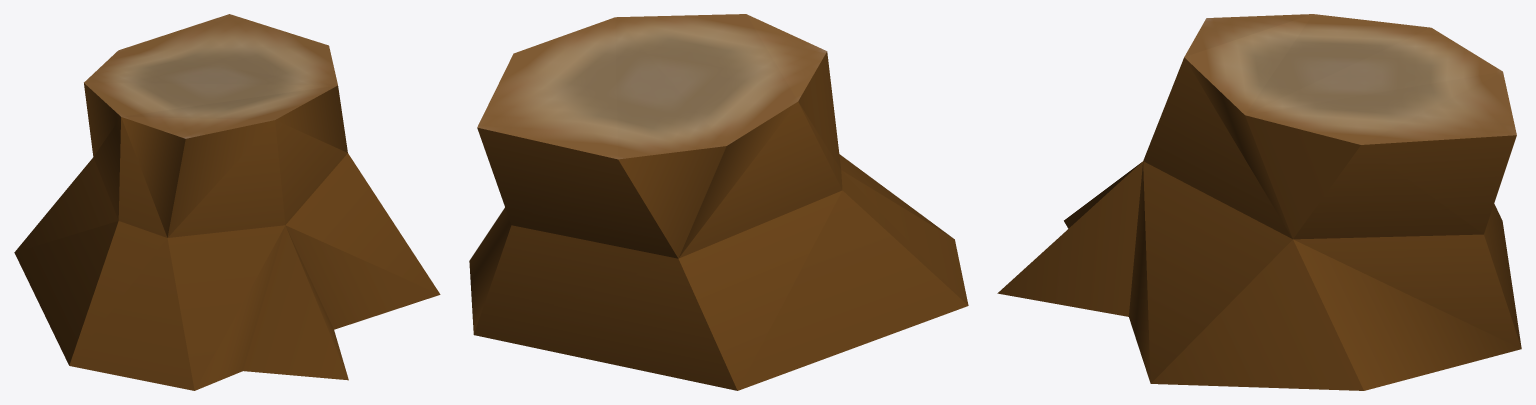
File: co_CutTree01.fbx
3 renders of one model, left to right at view 1: azimuth 30°, elevation 25°; view 2: azimuth 150°, elevation 25°; view 3: azimuth 270°, elevation 25°, orthographic. The views are drawn at different scales.
Parts seen in each view (by area): view 1: CutTree01; view 2: CutTree01; view 3: CutTree01.
Boxes of the visible parts, bbox=[...] form: CutTree01: bbox=[14, 14, 440, 390]; CutTree01: bbox=[469, 14, 968, 390]; CutTree01: bbox=[997, 14, 1521, 390].
Size of the model in its own units: 486 by 256 by 509.
